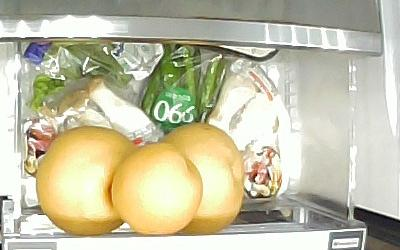pear: (35, 126, 138, 236), (159, 123, 244, 235), (113, 142, 203, 235)
